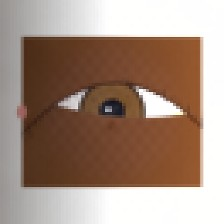pinguecula_lesion: (160, 102, 199, 133)
